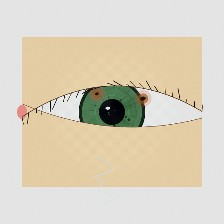foreign_body_visible: (88, 86, 106, 101)
